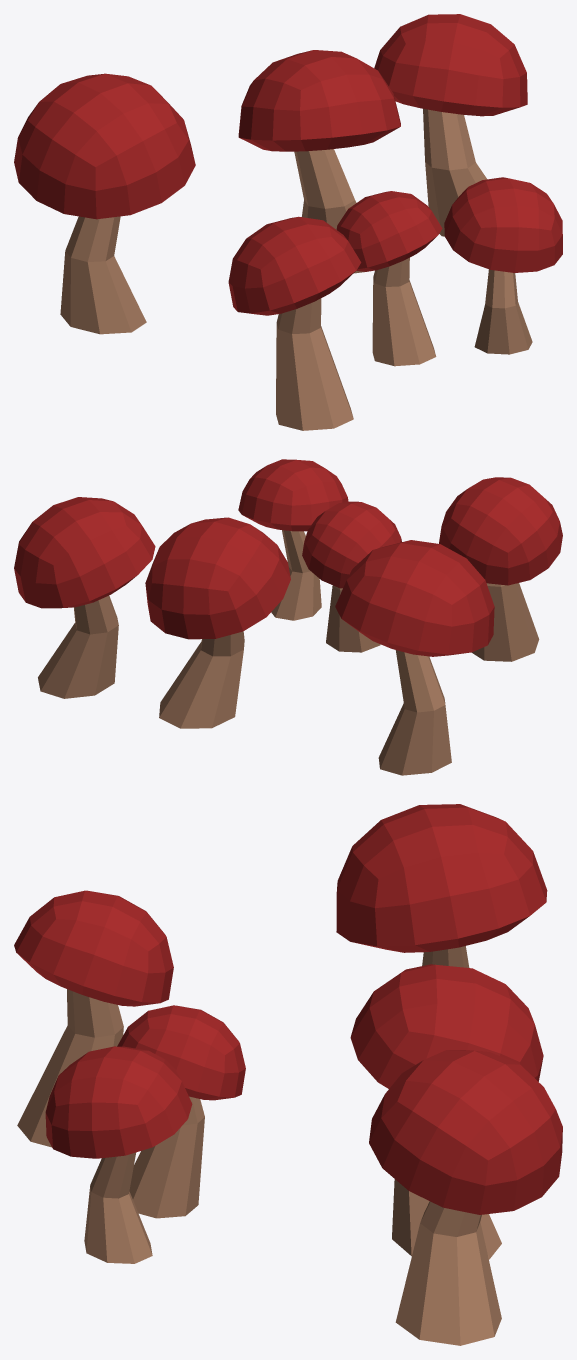
File: mesh_mushrooms_01_red.fbx
3 renders of one model, top to bottom at view 1: azimuth 30°, elevation 25°; view 2: azimuth 150°, elevation 25°; view 3: azimuth 270°, elevation 25°, orthographic. The views are drawn at different scales.
Parts seen in each view (by area): view 1: mesh_mushrooms_01_red_LOD0; view 2: mesh_mushrooms_01_red_LOD0; view 3: mesh_mushrooms_01_red_LOD0.
Boxes of the visible parts, left/top/right/bottom form: mesh_mushrooms_01_red_LOD0: left=14, top=14, right=562, bottom=430; mesh_mushrooms_01_red_LOD0: left=14, top=459, right=562, bottom=775; mesh_mushrooms_01_red_LOD0: left=14, top=804, right=562, bottom=1345.
Size of what is drawn, in the model's own units: 0.9638 by 0.4394 by 0.7569.
